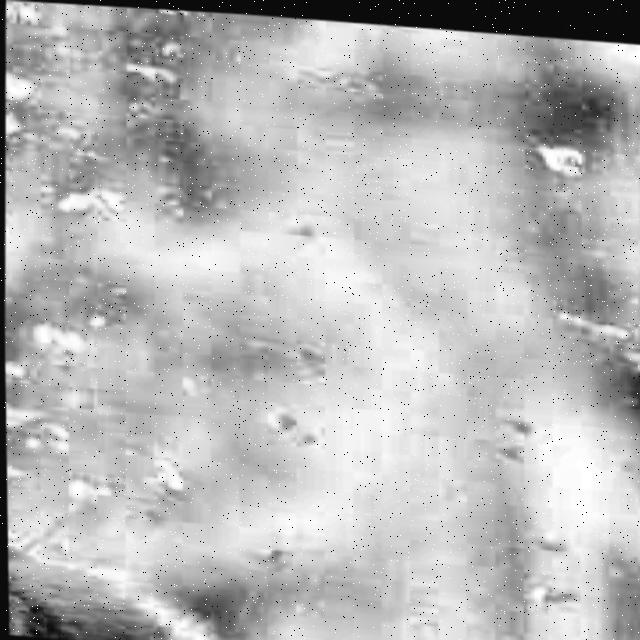rabbit: (7, 486, 640, 640)
